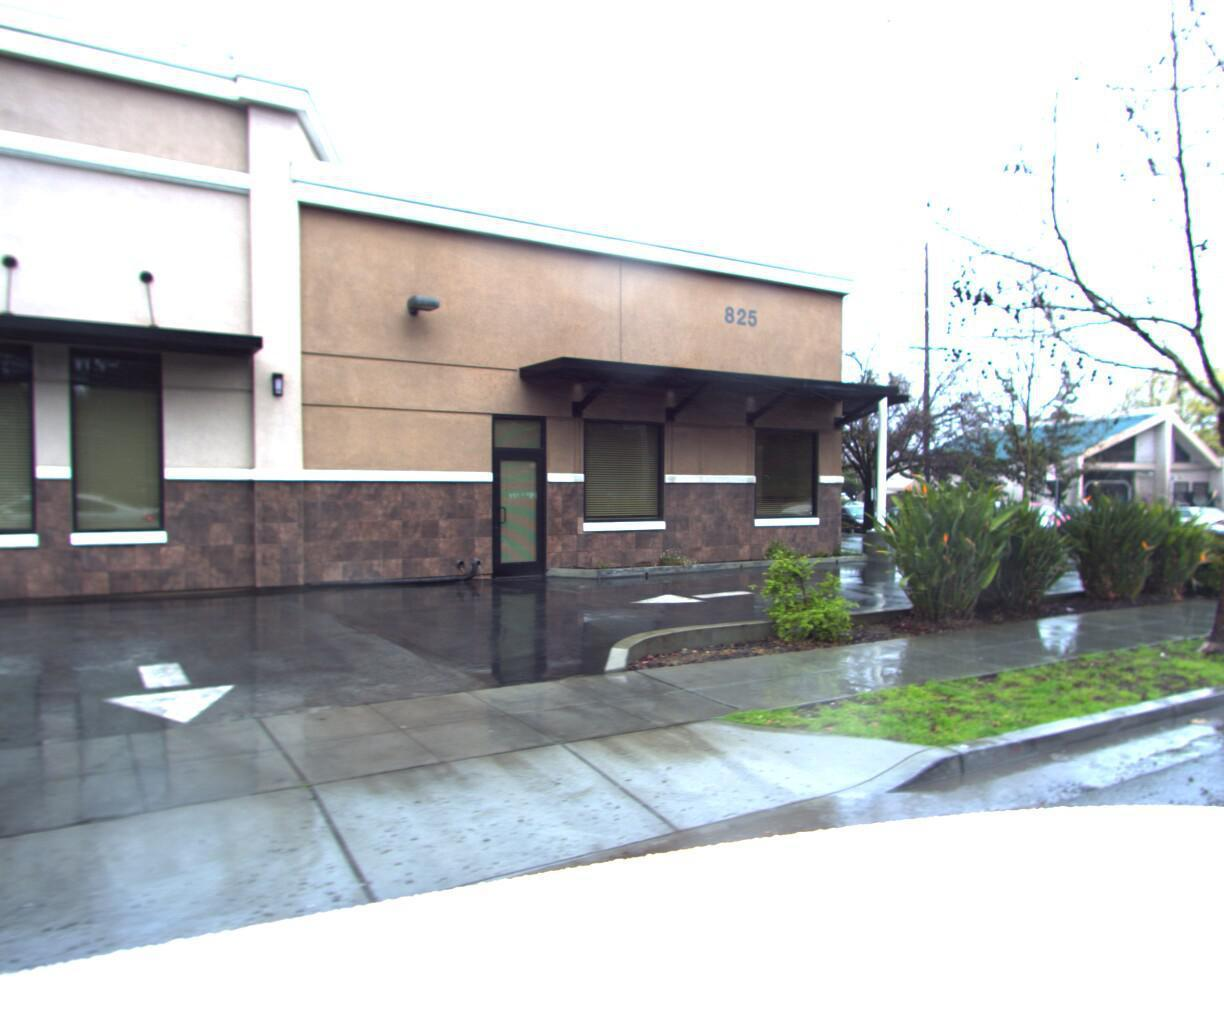car: (1126, 498, 1224, 541)
